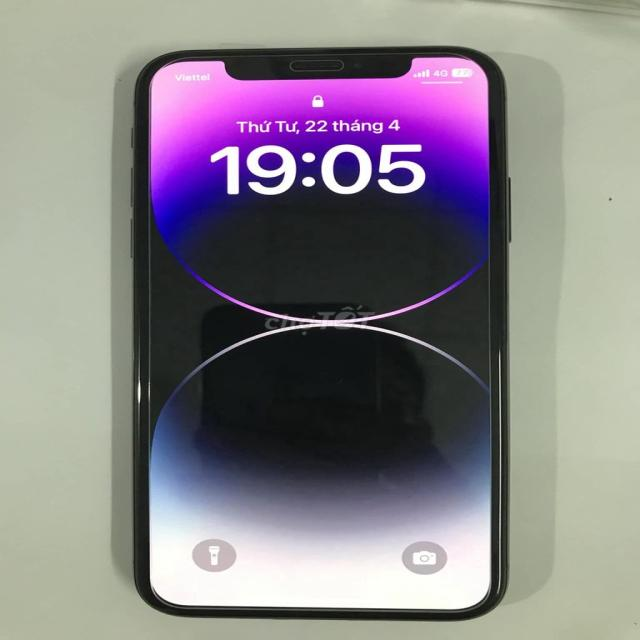gen_x_xs: (112, 34, 522, 626)
